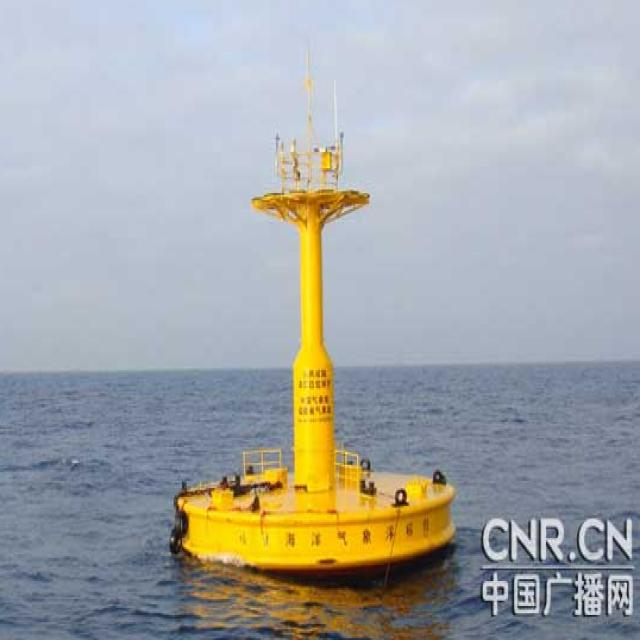buoy: (164, 57, 460, 583)
